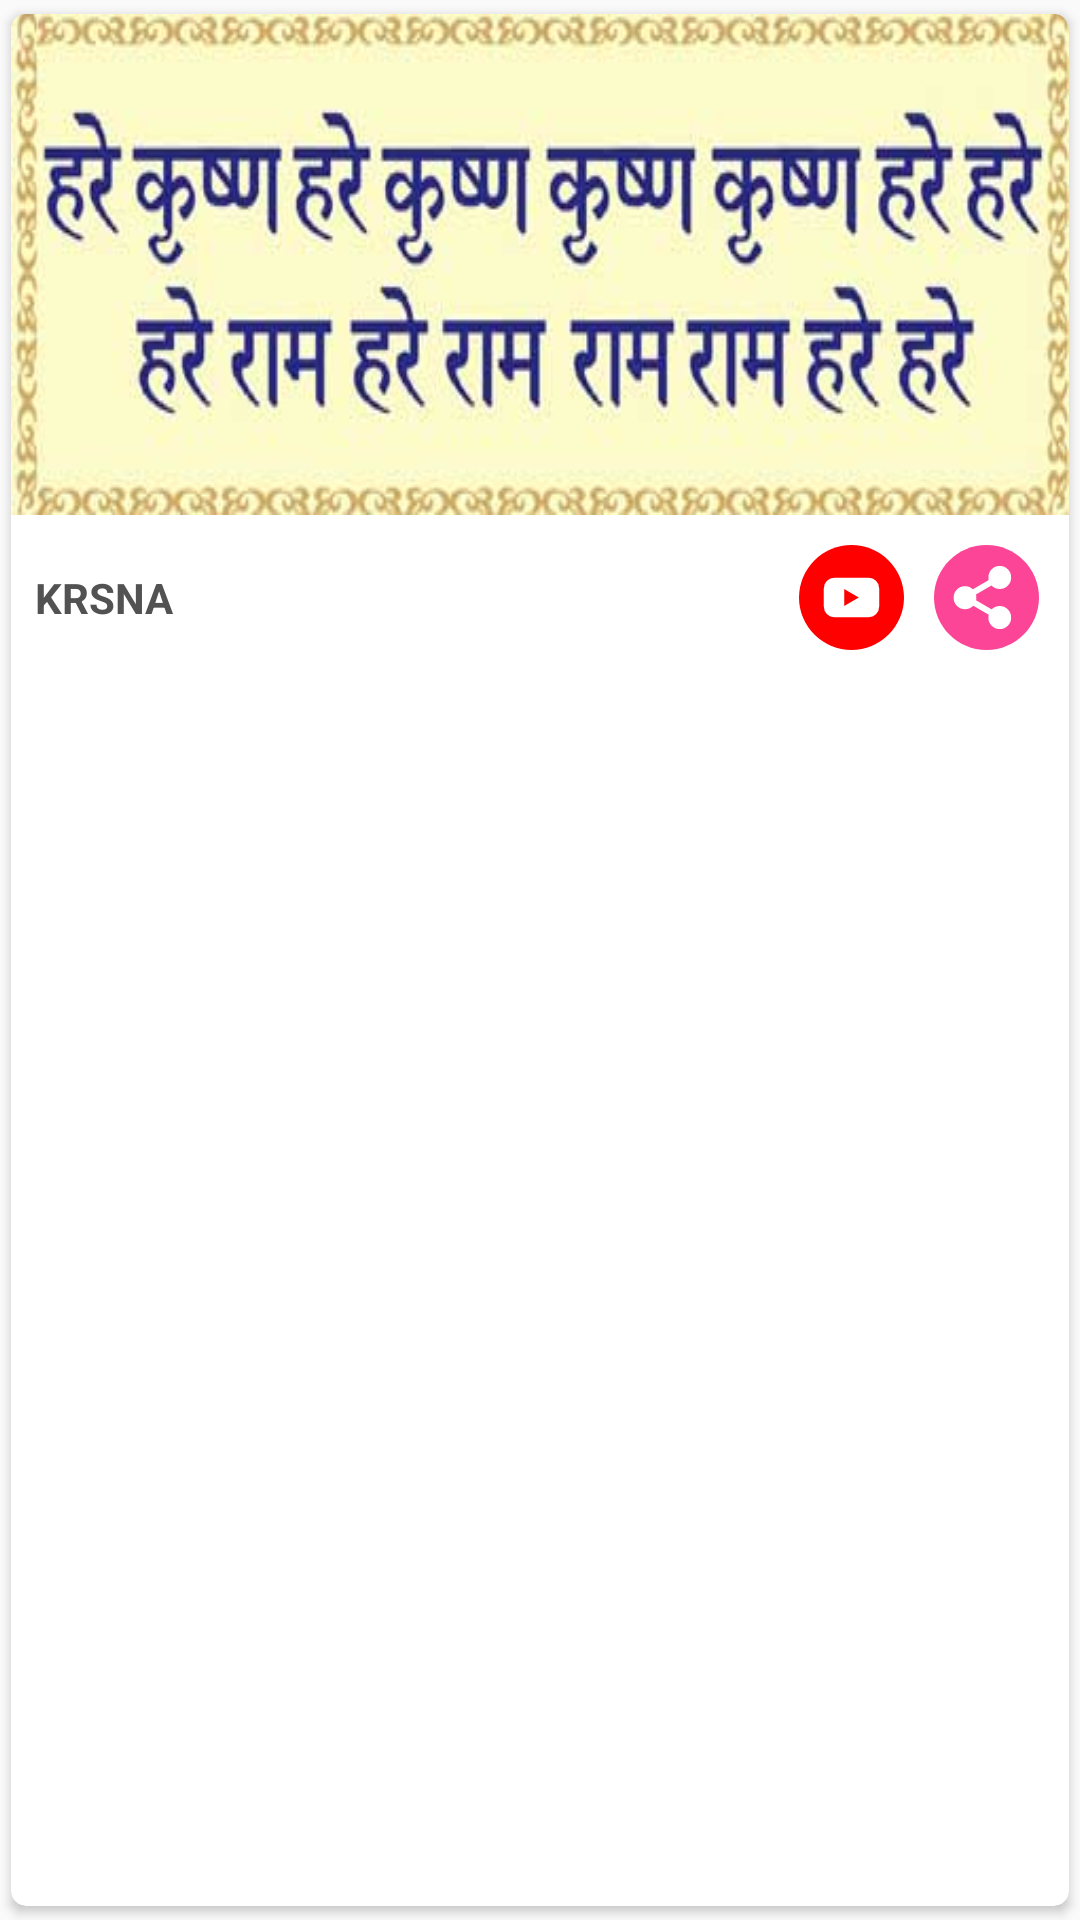

Point at icon controls on the screen. Image size 1080x1920, points as (x=x, y=y).
share: (x=986, y=597)
